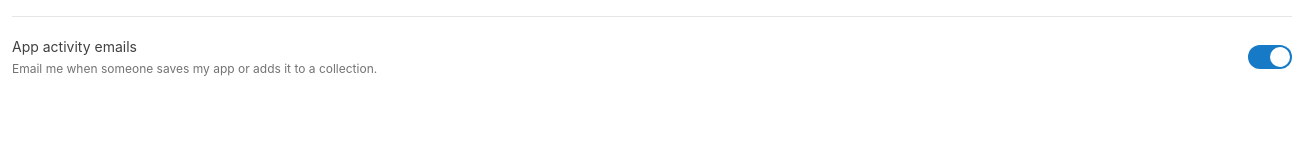
it: app activity email preferences › persists an opt-out for the signed-in user and restores it on reload
Later steps or results of the test are not shown.
Click the switch named "App activity emails" at (1270, 57), box [1248, 45, 1292, 69]
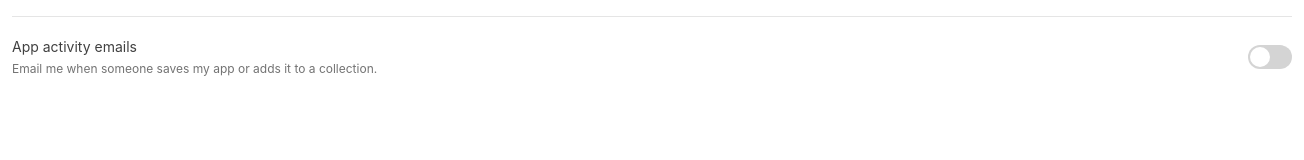
Expected: the switch named "App activity emails" is not checked, [1248, 45, 1292, 69]
